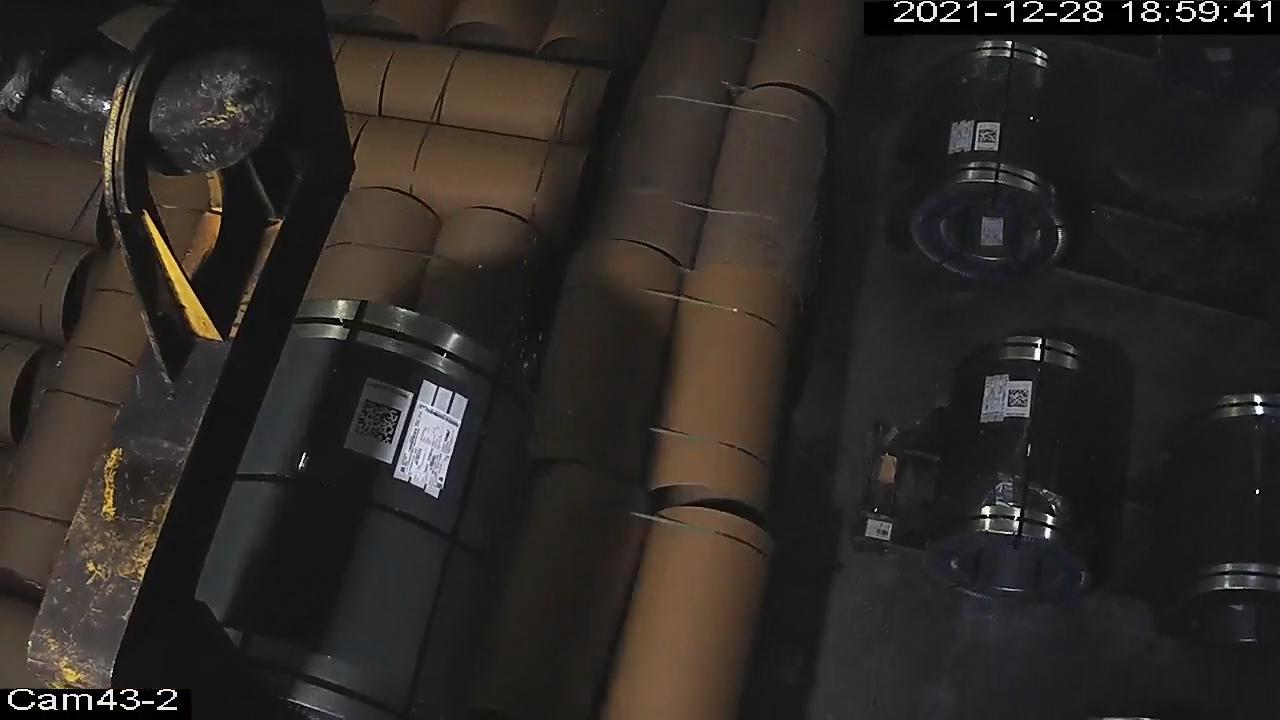data matrix: (350, 397, 406, 448), (1007, 388, 1031, 410), (977, 127, 1000, 147)
